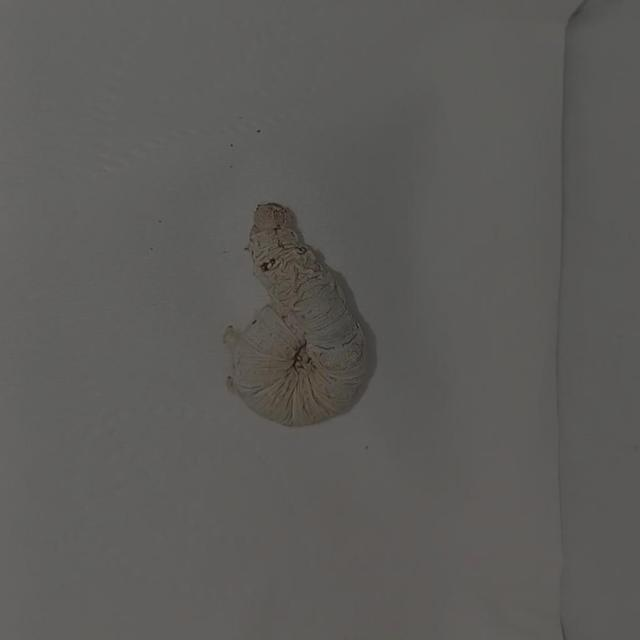Healthy: (209, 193, 383, 427)
